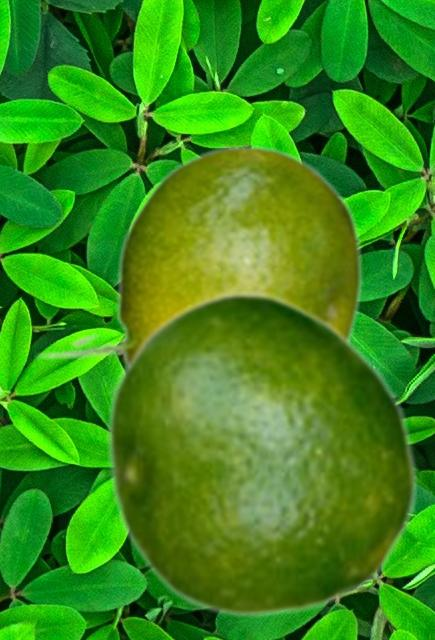calamansi: (104, 289, 419, 618), (34, 143, 362, 367)
